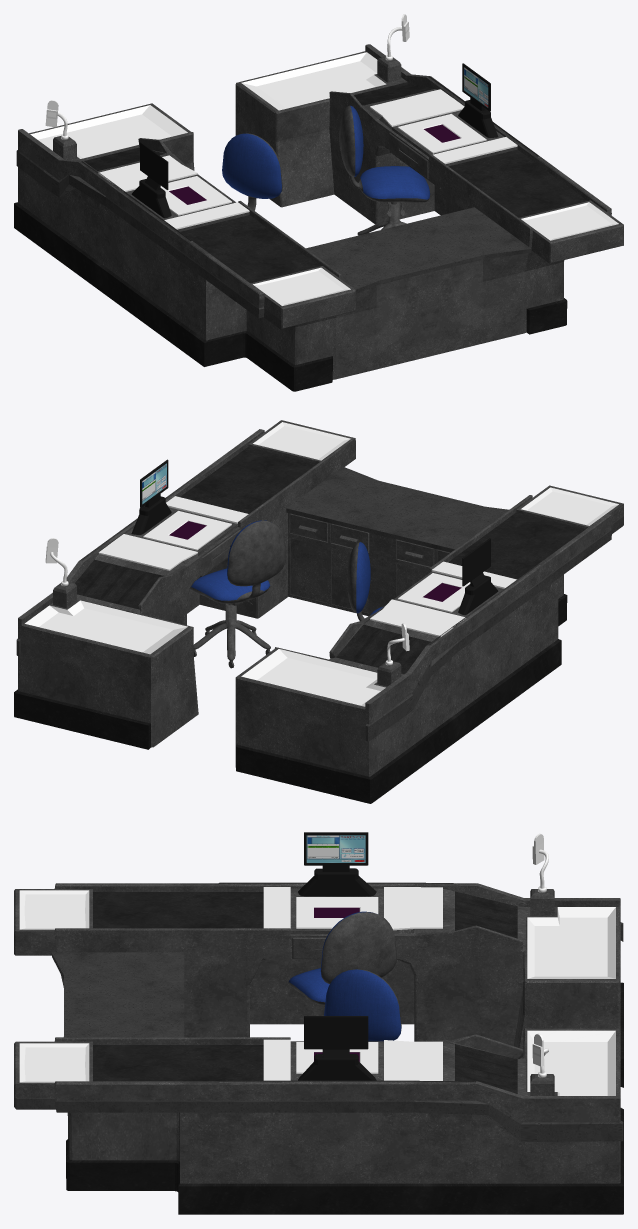
The model's file is supermarket_checkout.glb.
The picture shows the model from 3 angles, top to bottom: view 1: azimuth 30°, elevation 25°; view 2: azimuth 150°, elevation 25°; view 3: azimuth 270°, elevation 25°; orthographic projection. The views are drawn at different scales.
Parts seen in each view (by area): view 1: Double Checkout_0; view 2: Double Checkout_0; view 3: Double Checkout_0.
Part boxes in pixels (box(x1,y1,x2,y2)): Double Checkout_0: box(14, 14, 623, 391); Double Checkout_0: box(14, 420, 623, 803); Double Checkout_0: box(14, 832, 623, 1214).
Bounding box in the file's own units: 8.88 × 3.76 × 11.02.
Materials: 19 (11 with a texture image).
